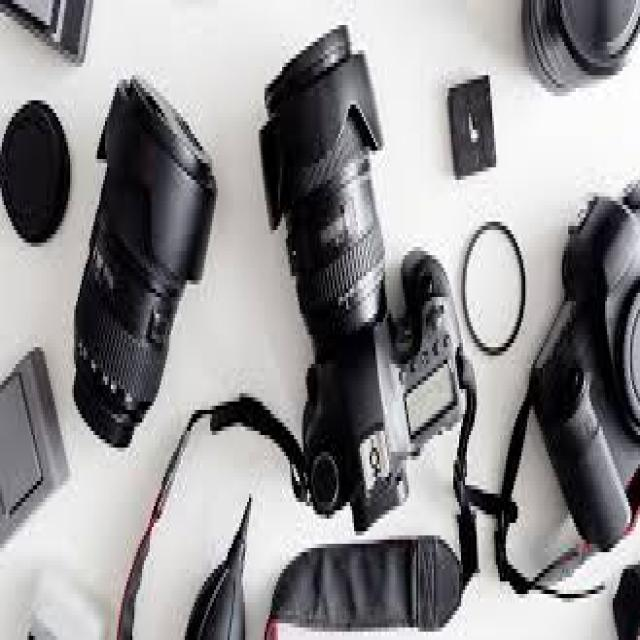camera: (261, 28, 459, 523), (66, 84, 218, 446), (535, 209, 640, 556)
